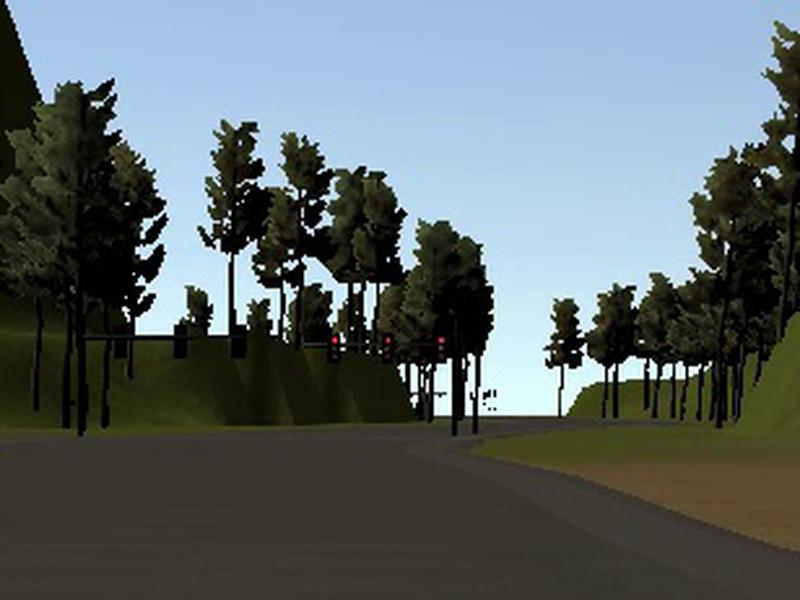Red: (381, 329, 396, 365), (327, 332, 341, 367), (436, 332, 448, 364)
